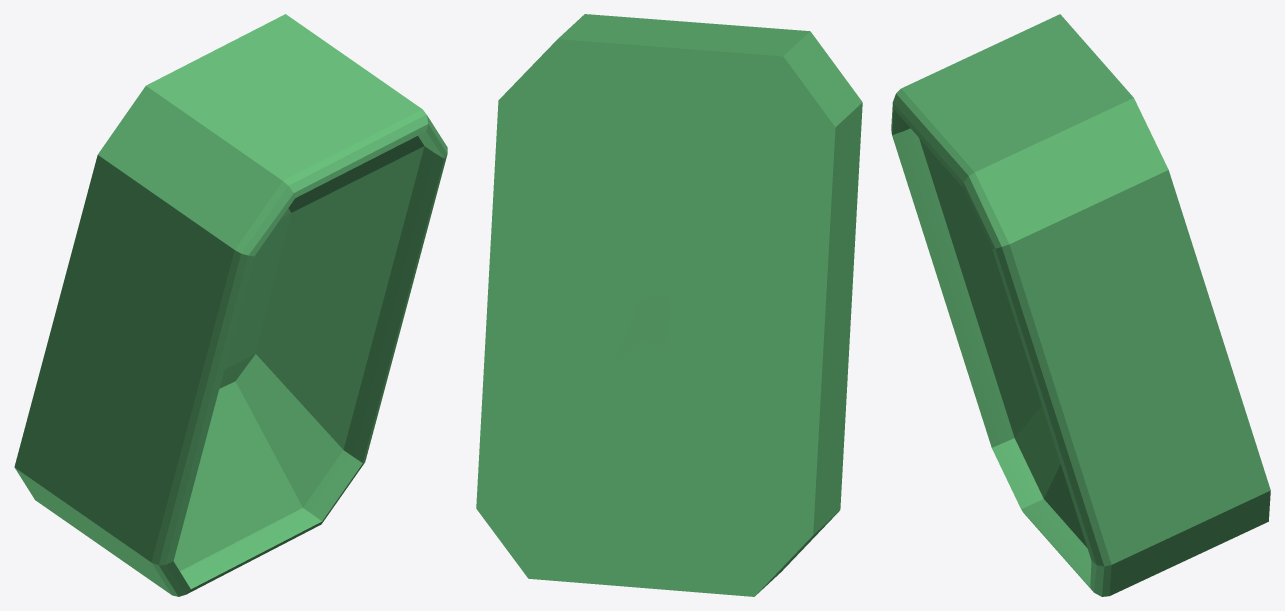
Rendered from BR2_8shapes_Emerald_Classic_Metal.001 3.glb.
3 renders of one model, left to right at view 1: azimuth 30°, elevation 25°; view 2: azimuth 150°, elevation 25°; view 3: azimuth 270°, elevation 25°, orthographic. The views are drawn at different scales.
Visible parts, largest first — view 1: BR2_8shapes_Emerald_Classic_Metal.001; view 2: BR2_8shapes_Emerald_Classic_Metal.001; view 3: BR2_8shapes_Emerald_Classic_Metal.001.
Part boxes in pixels (bbox=[...]): BR2_8shapes_Emerald_Classic_Metal.001: bbox=[14, 14, 447, 596]; BR2_8shapes_Emerald_Classic_Metal.001: bbox=[476, 14, 862, 596]; BR2_8shapes_Emerald_Classic_Metal.001: bbox=[891, 14, 1270, 596].
Bounding box in the file's own units: 0.4406 × 0.6044 × 0.4219.
